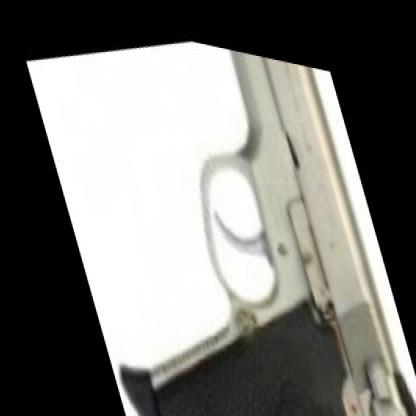pistol: (30, 4, 415, 415)
